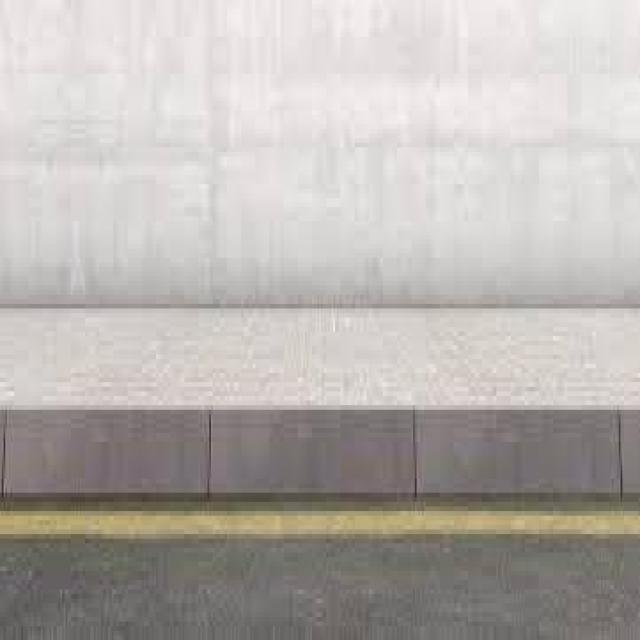curb: (206, 365, 425, 517), (415, 381, 632, 509), (4, 383, 218, 493)
